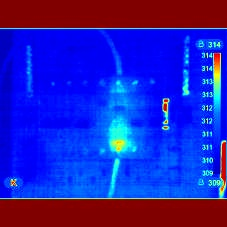High: (154, 95, 179, 135)
